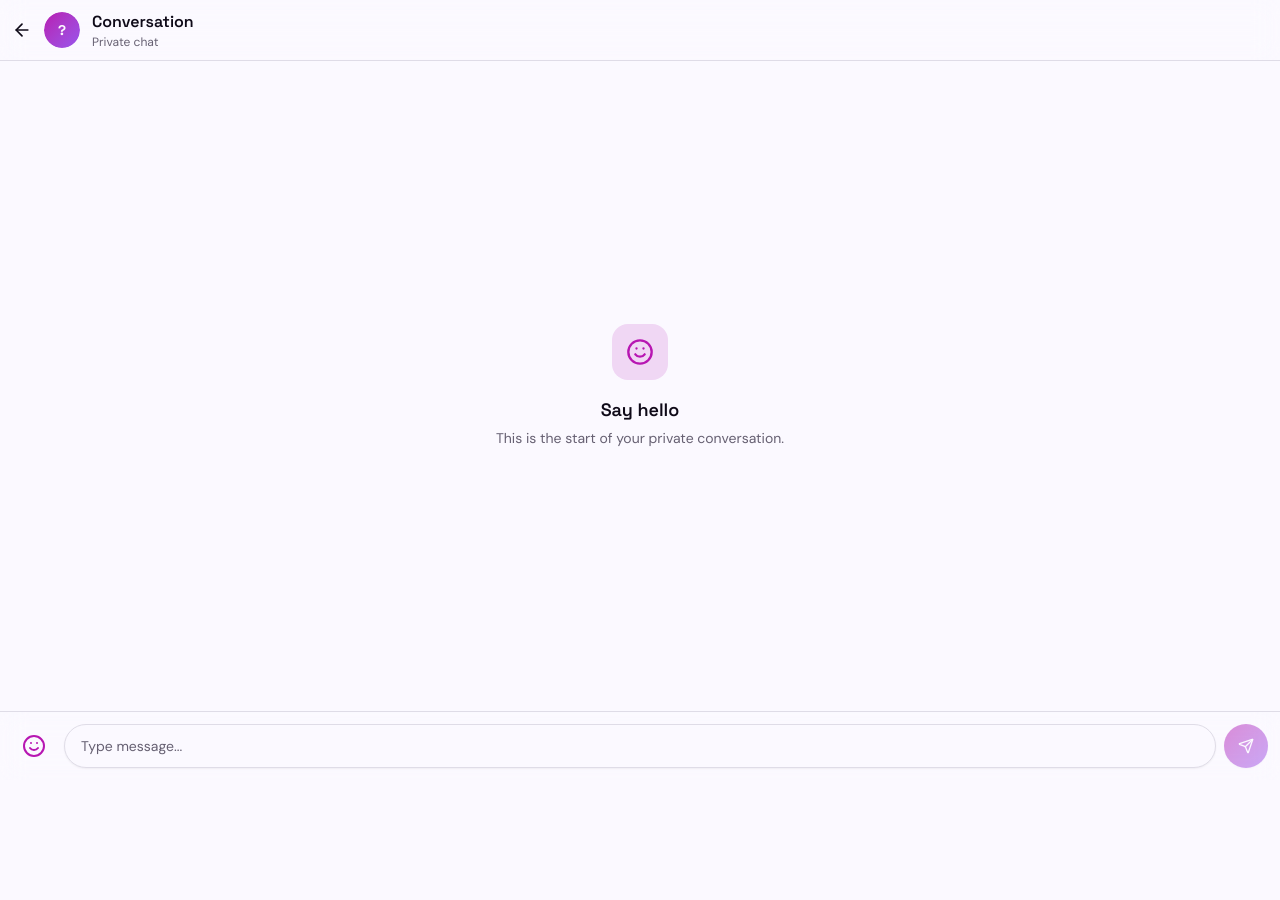
Test: opens the emoji picker from the Add emoji button
Click the button named "add emoji".
click(34, 746)  # box [12,724,56,768]
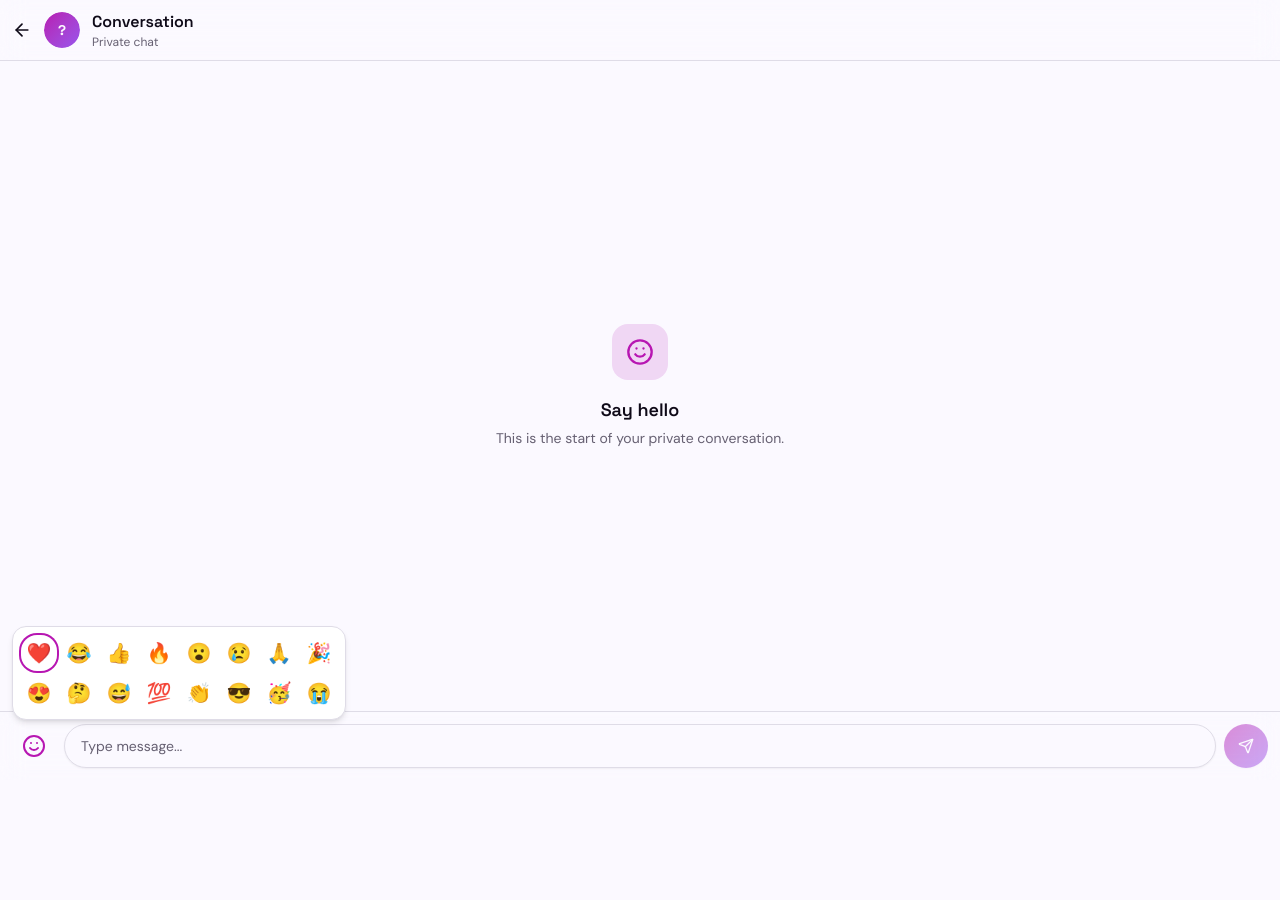
Expected: the button named "react with ❤️" is shown, [21,635,57,671]
Expected: the button named "react with 👍" is shown, [101,635,137,671]
